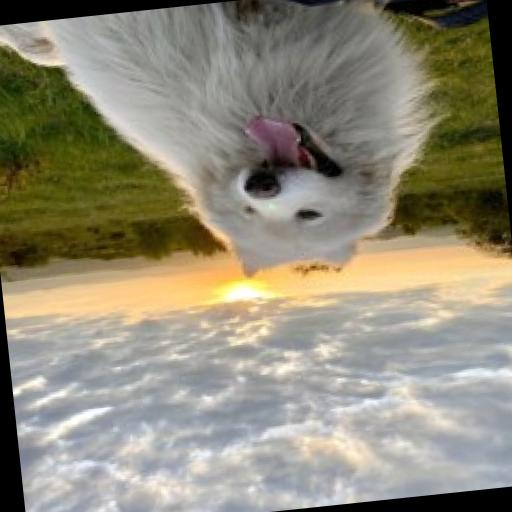dog: (0, 0, 463, 307)
